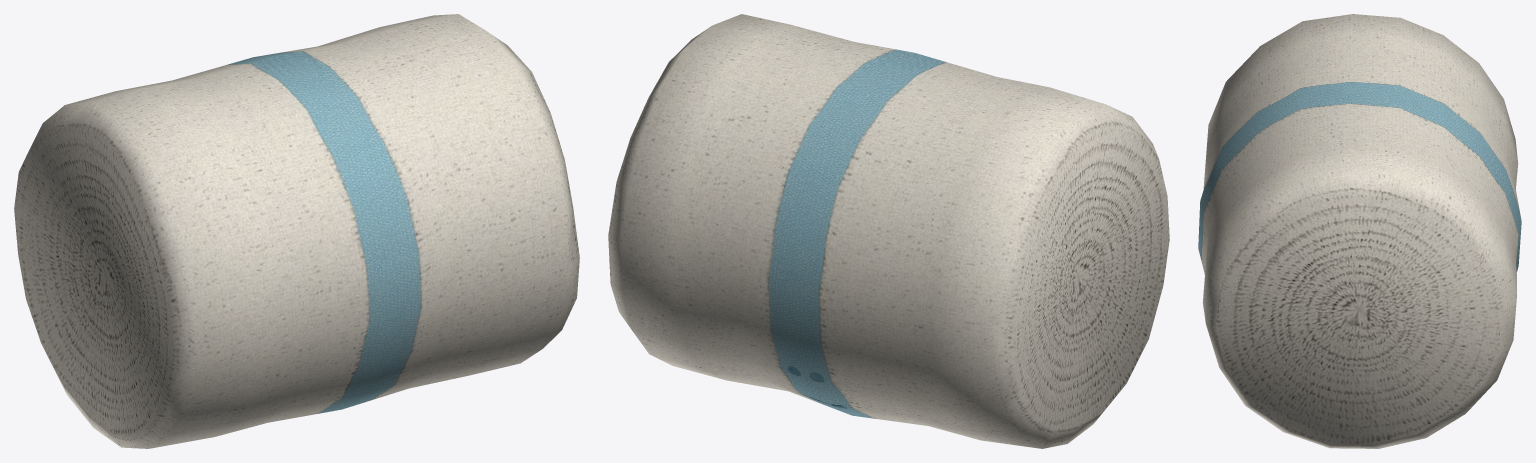
File: bandage_lite.glb
3 renders of one model, left to right at view 1: azimuth 30°, elevation 25°; view 2: azimuth 150°, elevation 25°; view 3: azimuth 270°, elevation 25°, orthographic. The views are drawn at different scales.
Parts seen in each view (by area): view 1: SM_Bandage_01; view 2: SM_Bandage_01; view 3: SM_Bandage_01.
Part boxes in pixels (x1=…): SM_Bandage_01: x1=14, y1=14, x2=579, y2=448; SM_Bandage_01: x1=608, y1=14, x2=1169, y2=448; SM_Bandage_01: x1=1198, y1=14, x2=1521, y2=448.
Size of the model in its own units: 0.0793 by 0.0612 by 0.0624.
1 material, 1 textured.
